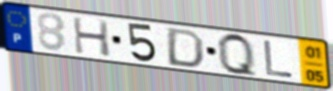5: (126, 22, 158, 64)
8: (35, 12, 69, 55)
D: (165, 26, 206, 69)
H: (70, 15, 113, 59)
L: (262, 39, 296, 80)
Q: (215, 31, 260, 80)
